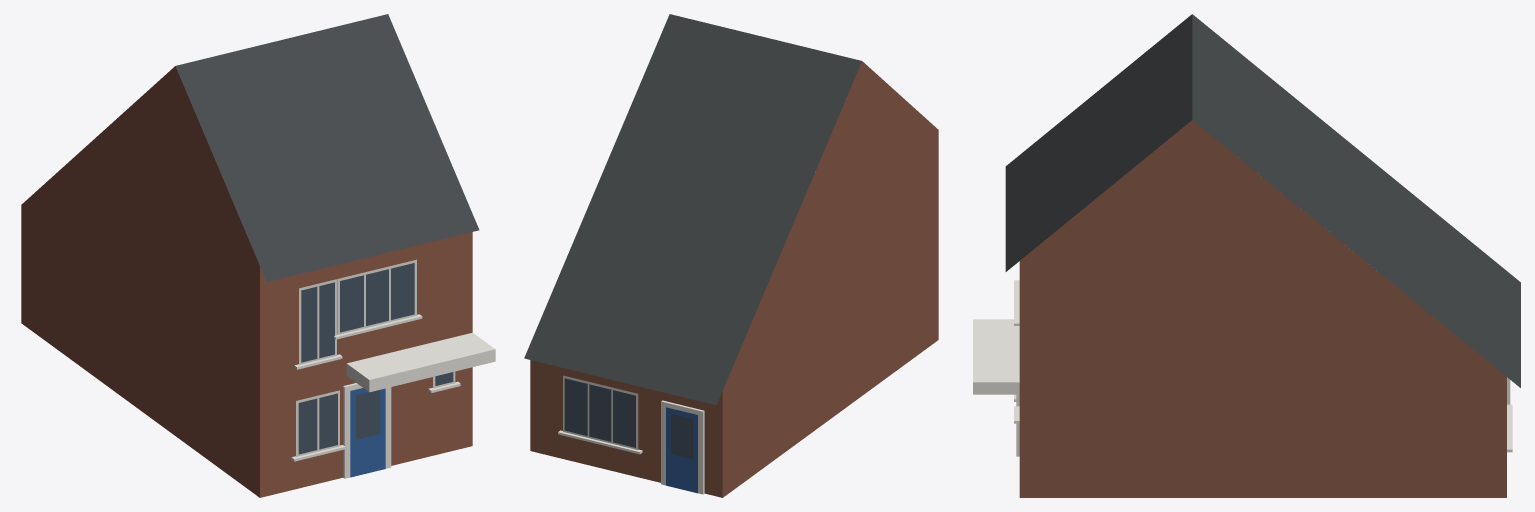
Rendered from zo-g4-canopy-pair__blue-door__2__gable__long__solid__mirror.glb.
The picture shows the model from 3 angles, left to right: view 1: azimuth 30°, elevation 25°; view 2: azimuth 150°, elevation 25°; view 3: azimuth 270°, elevation 25°; orthographic projection. The views are drawn at different scales.
Parts seen in each view (by area): view 1: zo-g4-canopy-pair__blue-door__2__gable__long__solid__mirror; view 2: zo-g4-canopy-pair__blue-door__2__gable__long__solid__mirror; view 3: zo-g4-canopy-pair__blue-door__2__gable__long__solid__mirror.
Part boxes in pixels (x1,y1,x2,y2): zo-g4-canopy-pair__blue-door__2__gable__long__solid__mirror: (21,14,495,497); zo-g4-canopy-pair__blue-door__2__gable__long__solid__mirror: (524,14,938,497); zo-g4-canopy-pair__blue-door__2__gable__long__solid__mirror: (973,14,1520,497).
Bounding box in the file's own units: 5.4 × 8.97 × 11.79.
